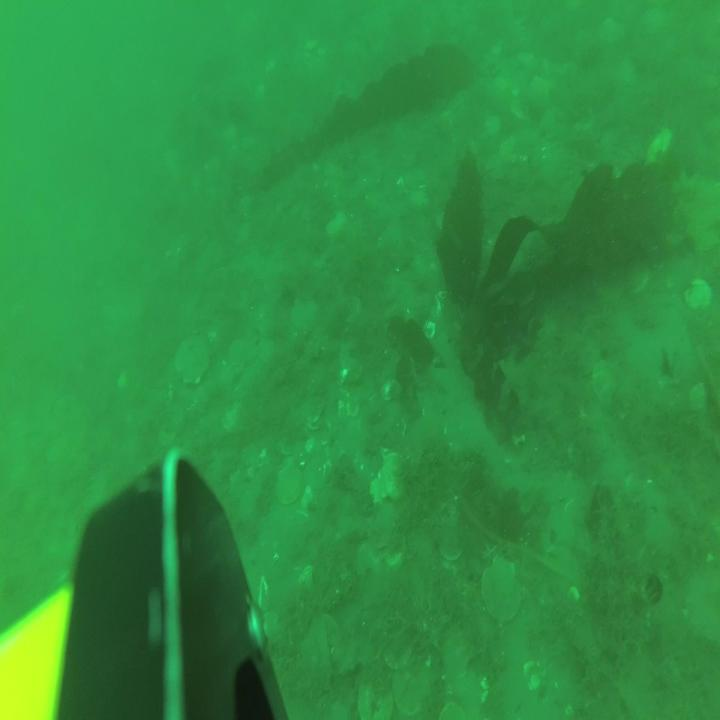scallop: (481, 557, 522, 626), (592, 358, 624, 417), (174, 341, 210, 388), (278, 464, 300, 508), (687, 277, 712, 312)
